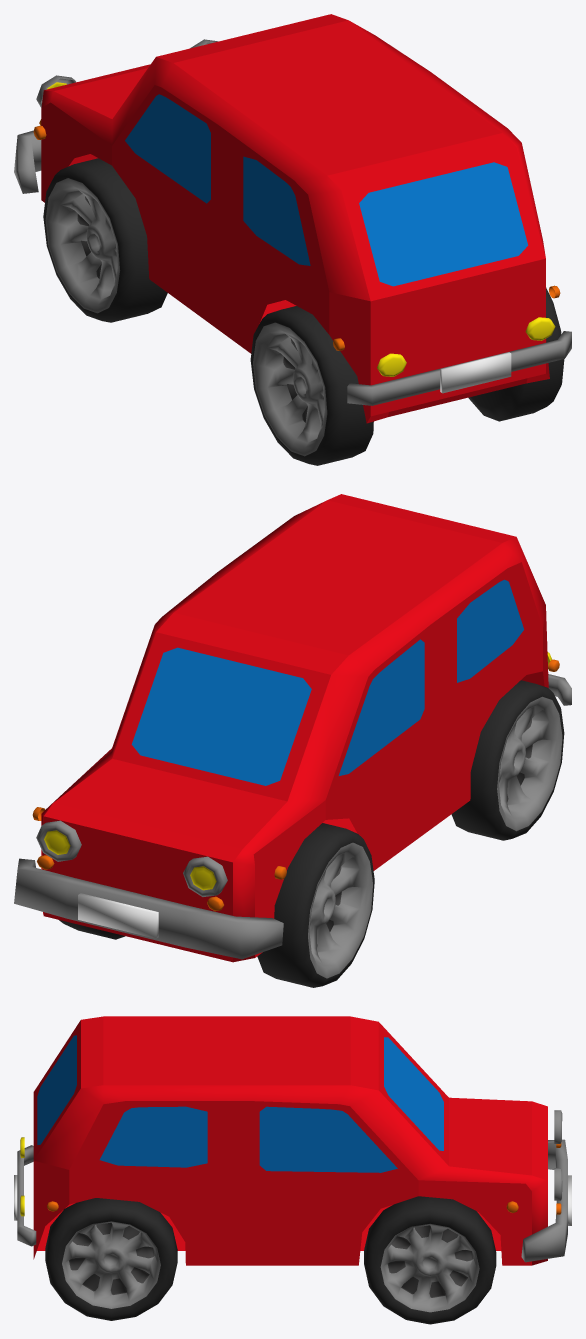
Rendered from Car_ParkingLot.fbx.
The picture shows the model from 3 angles, top to bottom: view 1: azimuth 30°, elevation 25°; view 2: azimuth 150°, elevation 25°; view 3: azimuth 270°, elevation 25°; orthographic projection. The views are drawn at different scales.
Parts seen in each view (by area): view 1: Car_ParkingLot; view 2: Car_ParkingLot; view 3: Car_ParkingLot.
Boxes of the visible parts, x1=… form: Car_ParkingLot: x1=14, y1=14, x2=571, y2=465; Car_ParkingLot: x1=14, y1=494, x2=571, y2=987; Car_ParkingLot: x1=14, y1=1016, x2=571, y2=1324.
Size of the model in its own units: 4.01 by 4.1 by 9.12.
